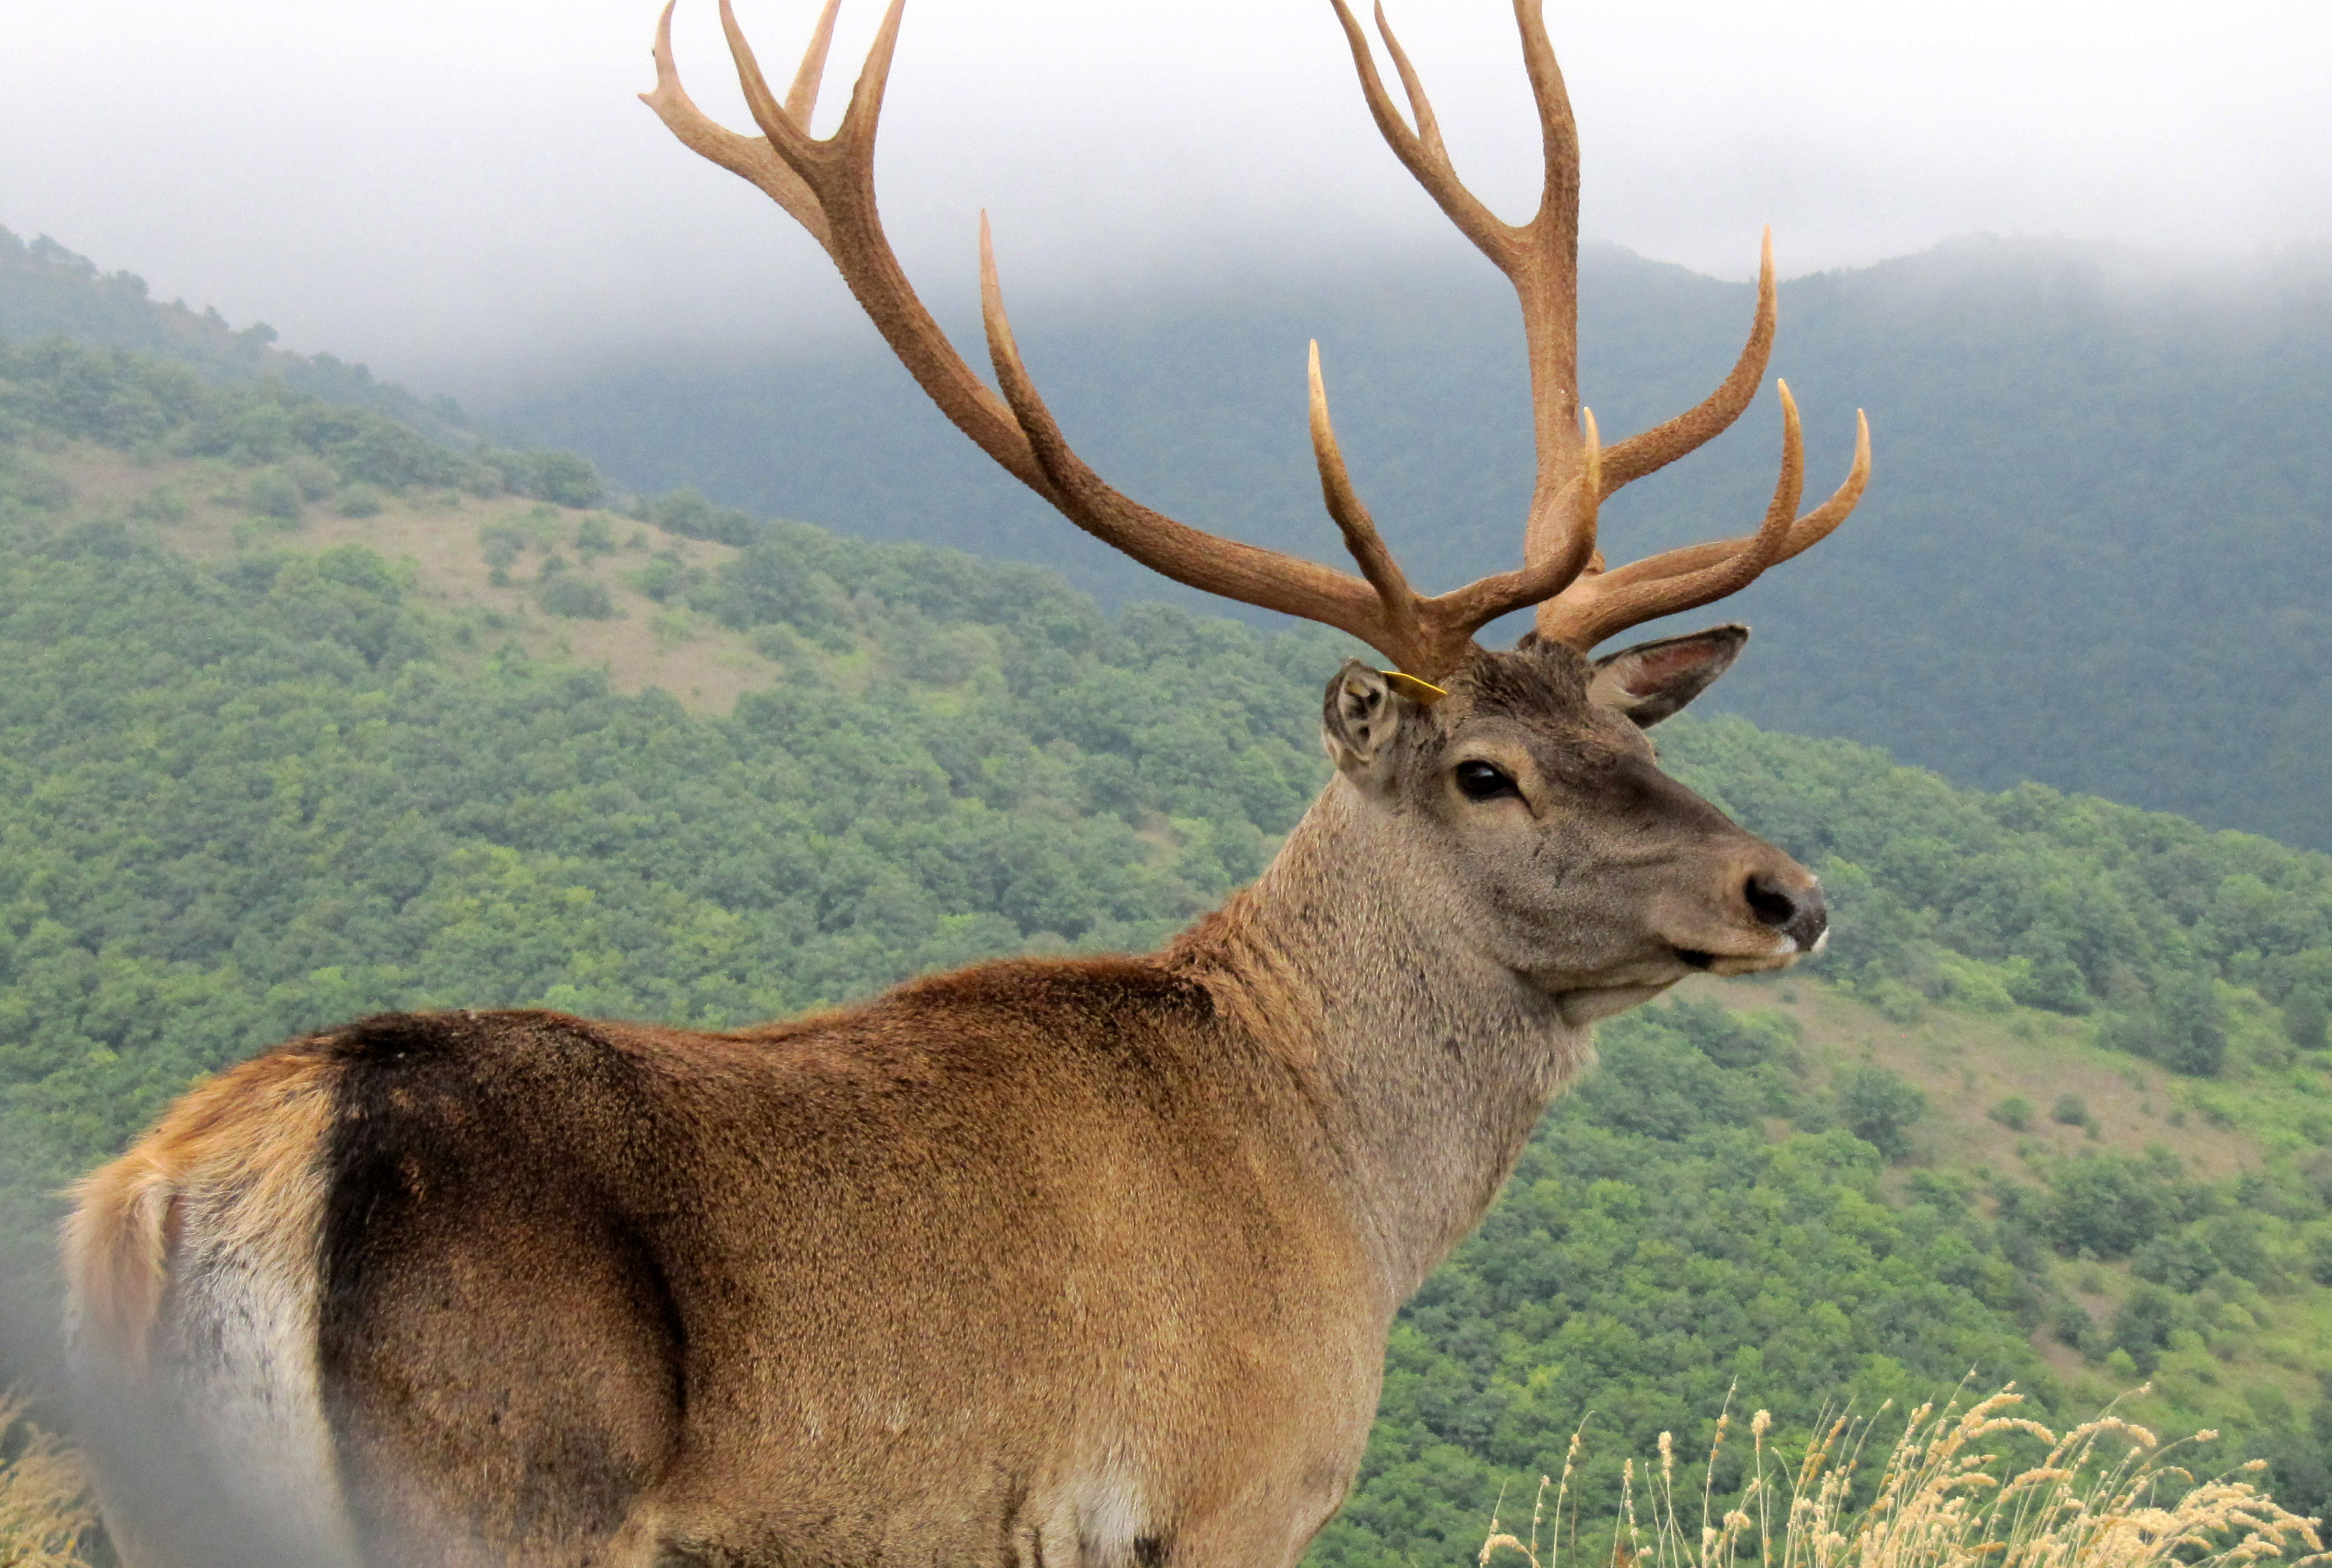Deer: (63, 2, 1886, 1568)
